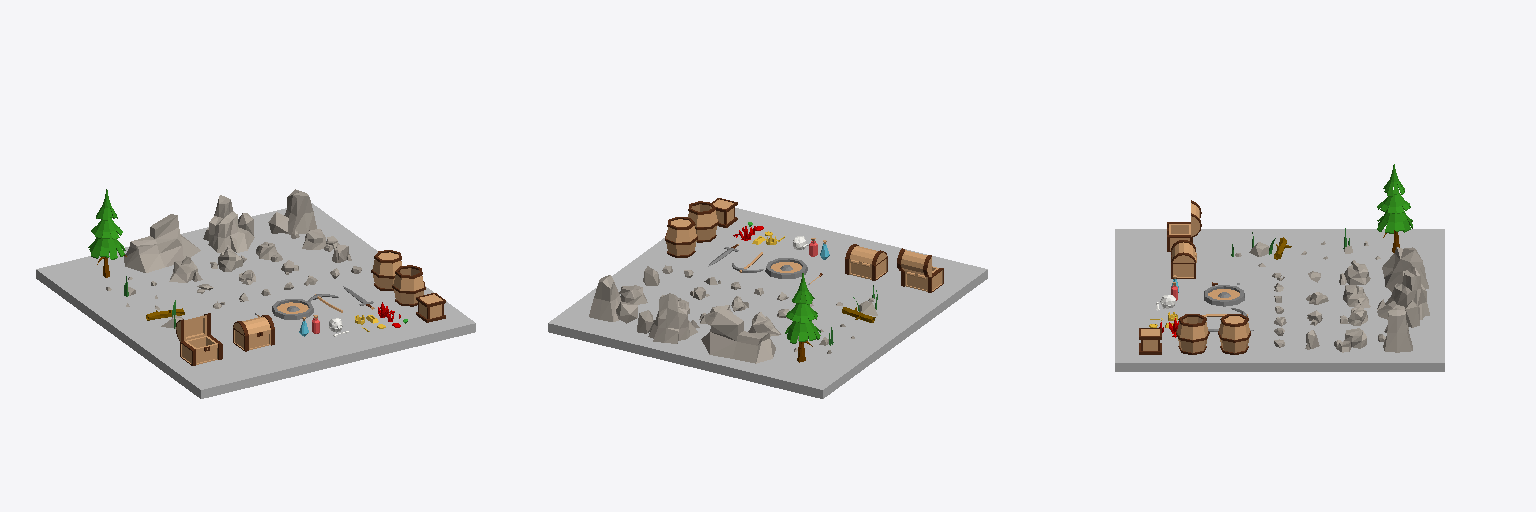
File: treasure.obj
The picture shows the model from 3 angles: view 1: azimuth 30°, elevation 25°; view 2: azimuth 150°, elevation 25°; view 3: azimuth 270°, elevation 25°; orthographic projection.
Parts seen in each view (by area): view 1: Ground.001, Stone_1.001, Stone_2.001, Tree_Fir.001, Stone_3.001, Chest_Clos.001, Barrel_Ope.001, Chest_Ope0.001, Barrel_Clo.001, Chest_Open.001, Shield.001, Box.001 (+2 smaller); view 2: Ground.001, Stone_1.001, Stone_2.001, Tree_Fir.001, Stone_3.001, Chest_Clos.001, Barrel_Clo.001, Barrel_Ope.001, Chest_Open.001, Shield.001, Chest_Ope0.001, Rocks_and0.001 (+1 smaller); view 3: Ground.001, Stone_2.001, Tree_Fir.001, Stone_1.001, Barrel_Clo.001, Barrel_Ope.001, Stone_3.001, Chest_Clos.001, Shield.001, Box.001, Rocks_and0.001.
Boxes of the visible parts, x1,y1,x2,y2 form: Ground.001: [36, 203, 475, 398]; Stone_1.001: [124, 214, 200, 272]; Stone_2.001: [203, 195, 254, 252]; Tree_Fir.001: [88, 189, 126, 277]; Stone_3.001: [268, 189, 316, 238]; Chest_Clos.001: [233, 315, 274, 351]; Barrel_Ope.001: [392, 265, 425, 306]; Chest_Ope0.001: [180, 335, 222, 365]; Barrel_Clo.001: [371, 250, 401, 290]; Chest_Open.001: [176, 313, 210, 341]; Shield.001: [272, 299, 313, 319]; Box.001: [416, 293, 445, 322]; Ground.001: [548, 208, 987, 398]; Stone_1.001: [701, 306, 775, 363]; Stone_2.001: [637, 293, 699, 343]; Tree_Fir.001: [785, 273, 820, 362]; Stone_3.001: [589, 275, 637, 323]; Chest_Clos.001: [845, 244, 887, 280]; Barrel_Clo.001: [665, 217, 697, 257]; Barrel_Ope.001: [687, 201, 718, 242]; Chest_Open.001: [897, 248, 931, 277]; Shield.001: [765, 258, 807, 278]; Chest_Ope0.001: [901, 266, 943, 292]; Rocks_and0.001: [836, 285, 877, 326]; Ground.001: [1115, 229, 1444, 371]; Stone_2.001: [1377, 267, 1429, 327]; Tree_Fir.001: [1377, 164, 1412, 252]; Stone_1.001: [1382, 247, 1428, 291]; Barrel_Clo.001: [1218, 314, 1250, 354]; Barrel_Ope.001: [1176, 314, 1209, 354]; Stone_3.001: [1378, 308, 1412, 352]; Chest_Clos.001: [1171, 240, 1196, 278]; Shield.001: [1204, 285, 1244, 306]; Box.001: [1139, 328, 1161, 354]; Rocks_and0.001: [1231, 232, 1306, 266].
Bounding box in the file's own units: 8.05 × 2.76 × 8.38.